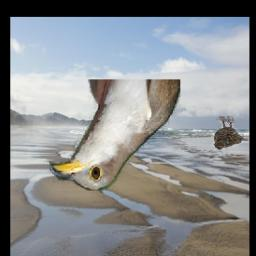Cuckoo: (50, 79, 180, 191)
Sparrow: (213, 116, 249, 150)
